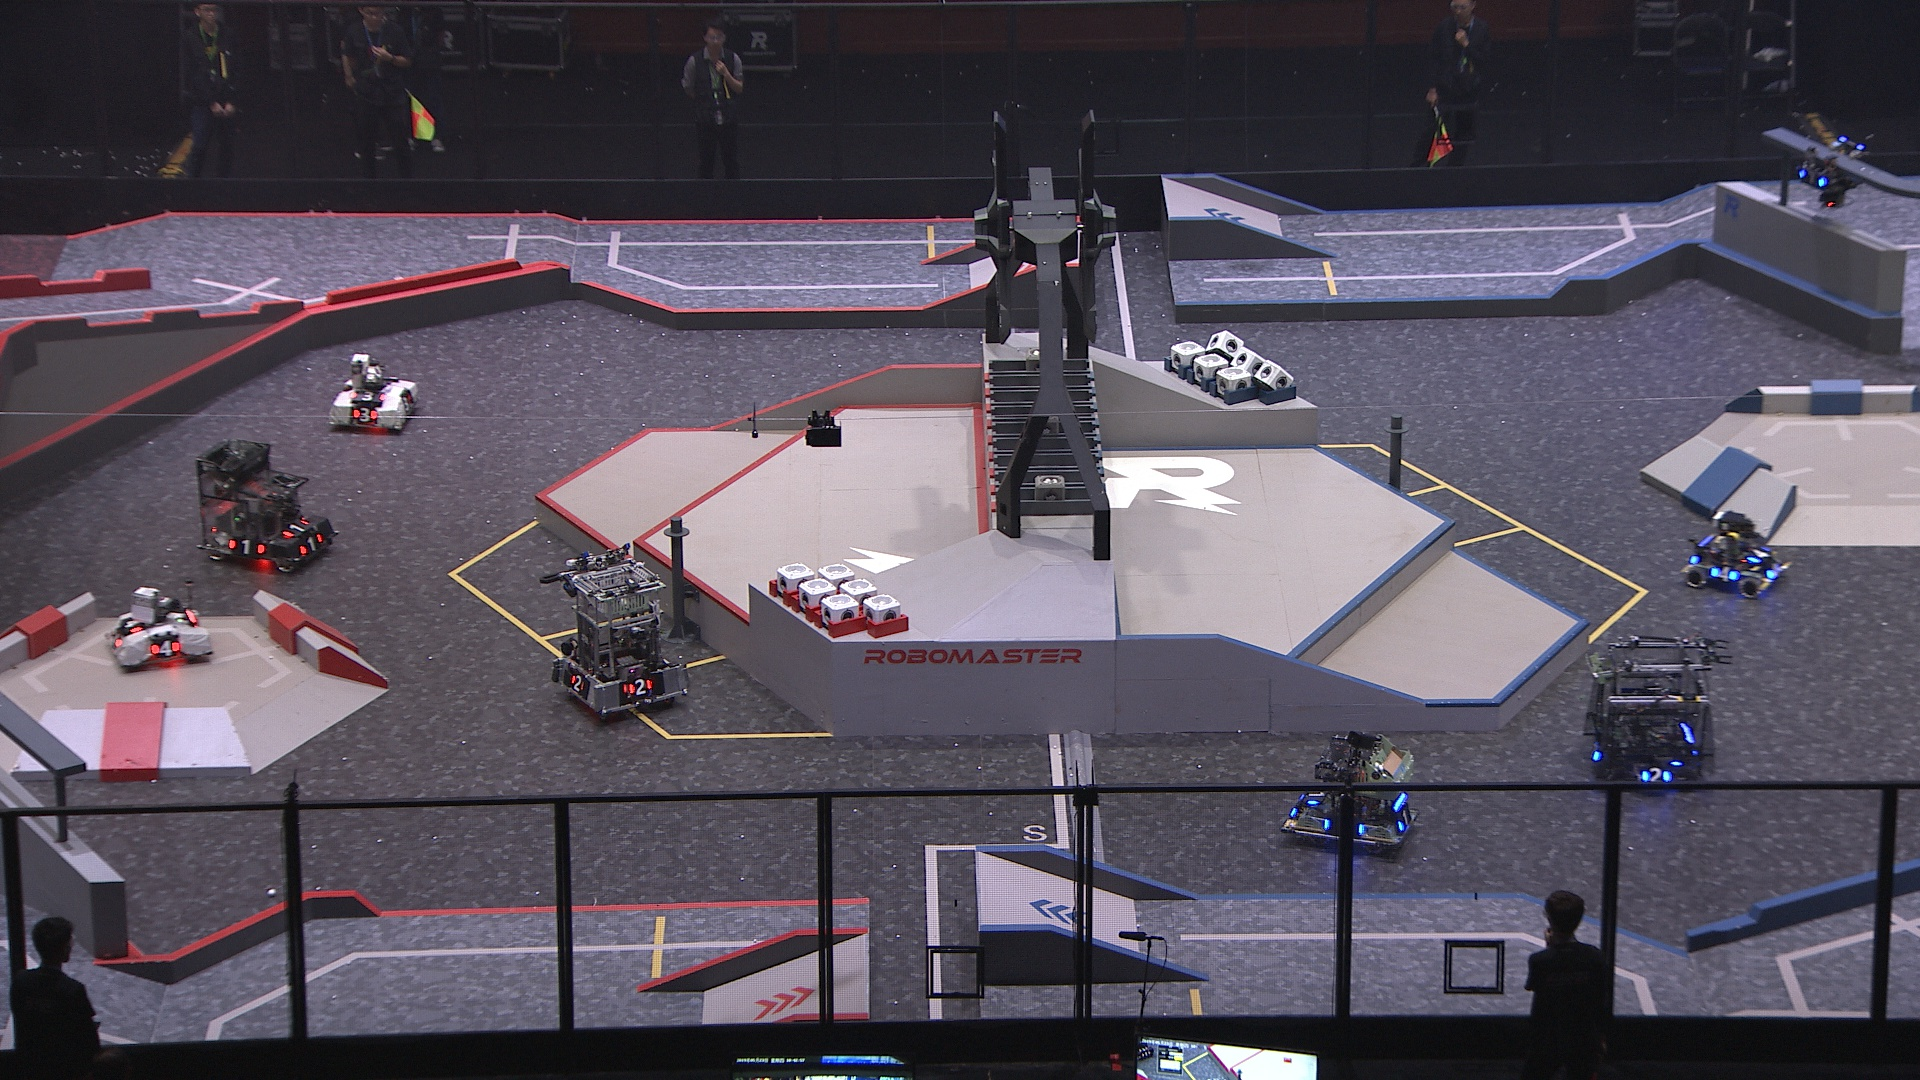armor: (223, 534, 266, 559), (297, 527, 327, 559), (1793, 166, 1830, 191), (278, 514, 310, 538), (146, 636, 181, 657), (1709, 564, 1742, 585), (1640, 765, 1673, 785), (1745, 542, 1774, 564), (349, 406, 382, 425), (1302, 785, 1327, 808), (626, 679, 655, 699), (349, 386, 382, 404), (1394, 807, 1414, 835), (164, 607, 190, 626), (123, 615, 145, 637), (398, 389, 417, 415), (1585, 741, 1605, 764), (567, 670, 585, 694), (1764, 556, 1783, 580)
car: (550, 553, 694, 721), (1584, 632, 1717, 789), (193, 434, 334, 575), (1276, 727, 1425, 858), (102, 582, 212, 674), (1680, 508, 1787, 597), (328, 351, 419, 436)
watcher: (1792, 131, 1873, 207)
